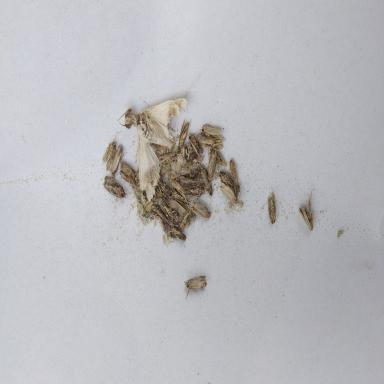pbw: (101, 130, 121, 171), (298, 190, 313, 231), (103, 175, 128, 198), (190, 199, 212, 225), (160, 200, 180, 228), (184, 275, 207, 299), (119, 159, 138, 187), (109, 144, 124, 176), (170, 189, 192, 210), (196, 123, 222, 140), (178, 119, 192, 149), (219, 181, 237, 204), (188, 133, 203, 158), (200, 166, 212, 197), (152, 176, 171, 195), (219, 170, 237, 190), (267, 185, 276, 225), (168, 198, 186, 217), (204, 136, 226, 151), (226, 158, 238, 184), (184, 184, 206, 198), (169, 176, 186, 194), (179, 208, 192, 231), (169, 224, 186, 240), (229, 184, 240, 208), (208, 150, 216, 181), (195, 132, 215, 144), (117, 169, 133, 184), (158, 152, 177, 163), (216, 152, 227, 167)
